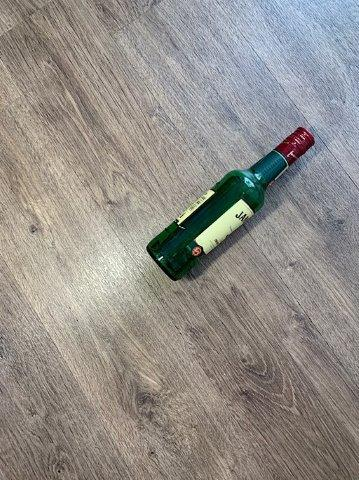botolkaca: (148, 130, 314, 277)
